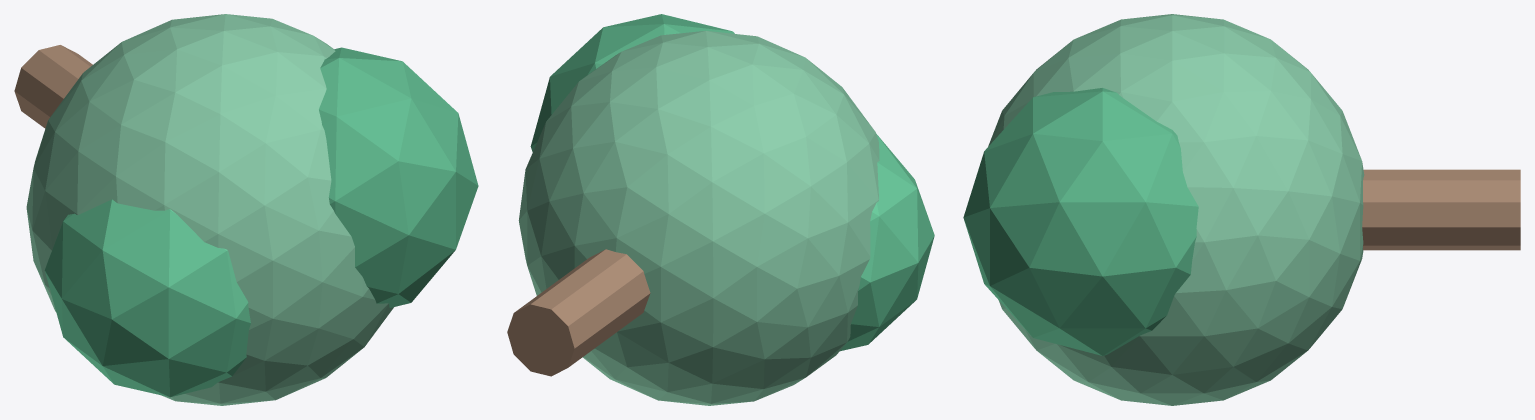
Rendered from tree-round.glb.
3 renders of one model, left to right at view 1: azimuth 30°, elevation 25°; view 2: azimuth 150°, elevation 25°; view 3: azimuth 270°, elevation 25°, orthographic. The views are drawn at different scales.
Visible parts, largest first — view 1: world; view 2: world; view 3: world.
Boxes of the visible parts, box(x1,y1,x2,y2) form: world: box(14, 14, 478, 405); world: box(507, 14, 934, 405); world: box(963, 14, 1520, 405).
Size of the model in its own units: 3.9 by 3.4 by 4.8.
